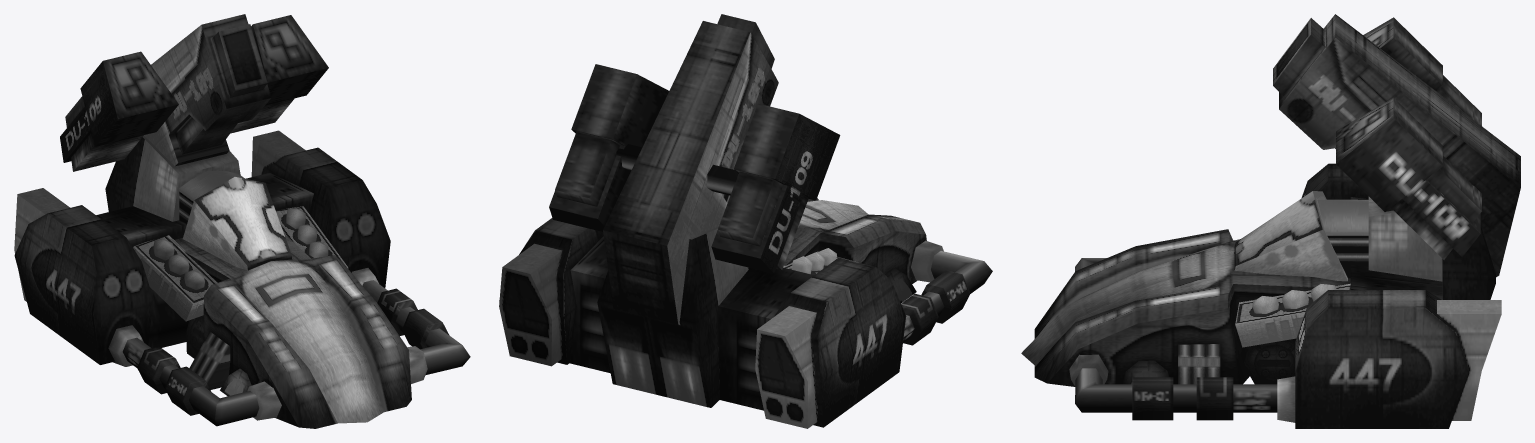
The model's file is datan_common_B0009_98b7d827.obj.
3 renders of one model, left to right at view 1: azimuth 30°, elevation 25°; view 2: azimuth 150°, elevation 25°; view 3: azimuth 270°, elevation 25°, orthographic. The views are drawn at different scales.
Visible parts, largest first — view 1: datan_common_B0009_98b7d827_mesh00; view 2: datan_common_B0009_98b7d827_mesh00; view 3: datan_common_B0009_98b7d827_mesh00.
Part boxes in pixels (left/top/right/bottom): datan_common_B0009_98b7d827_mesh00: left=14, top=14, right=470, bottom=428; datan_common_B0009_98b7d827_mesh00: left=499, top=14, right=992, bottom=428; datan_common_B0009_98b7d827_mesh00: left=1021, top=14, right=1520, bottom=428.
Size of the model in its own units: 5.55 by 5.52 by 7.38.
1 material, 1 textured.
